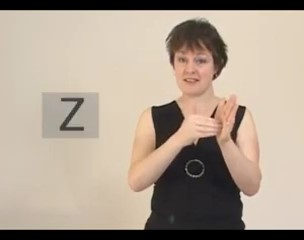Z: (167, 89, 249, 152)
